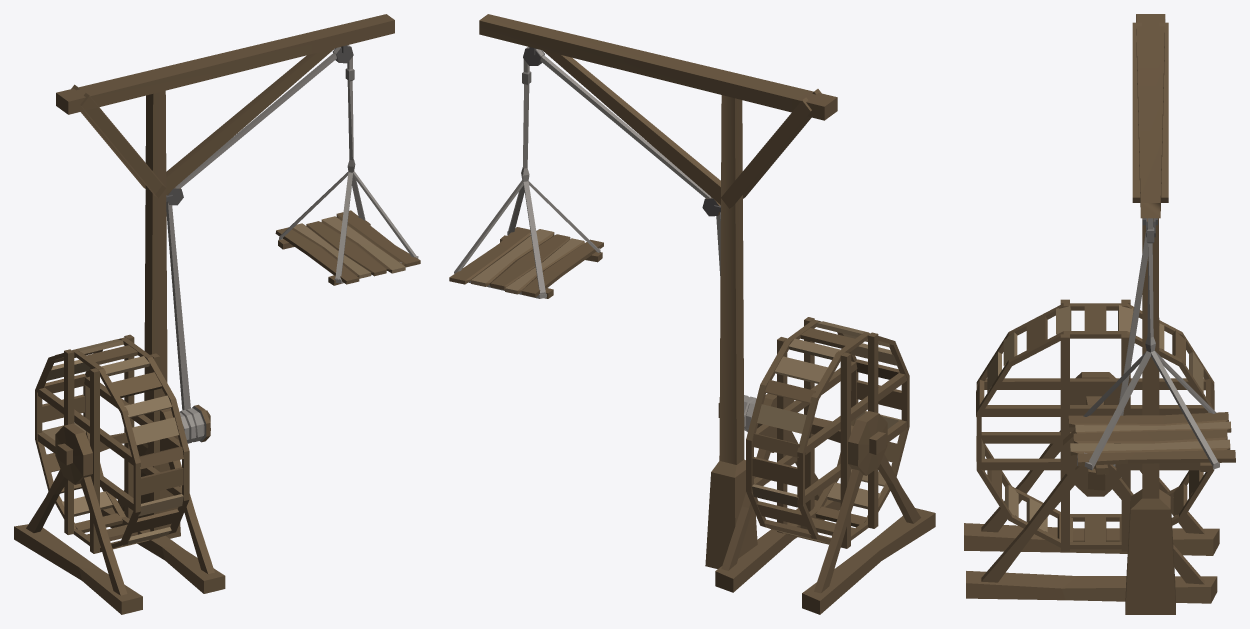
3 renders of one model, left to right at view 1: azimuth 30°, elevation 25°; view 2: azimuth 150°, elevation 25°; view 3: azimuth 270°, elevation 25°, orthographic. The views are drawn at different scales.
Visible parts, largest first — view 1: TwP_prop_Crane_007; view 2: TwP_prop_Crane_007; view 3: TwP_prop_Crane_007.
Part boxes in pixels (x1,y1,x2,y2): TwP_prop_Crane_007: [14, 14, 420, 614]; TwP_prop_Crane_007: [449, 14, 935, 614]; TwP_prop_Crane_007: [964, 14, 1235, 614].
Bounding box in the file's own units: 6.94 × 8.62 × 3.9.
1 material, 1 textured.
